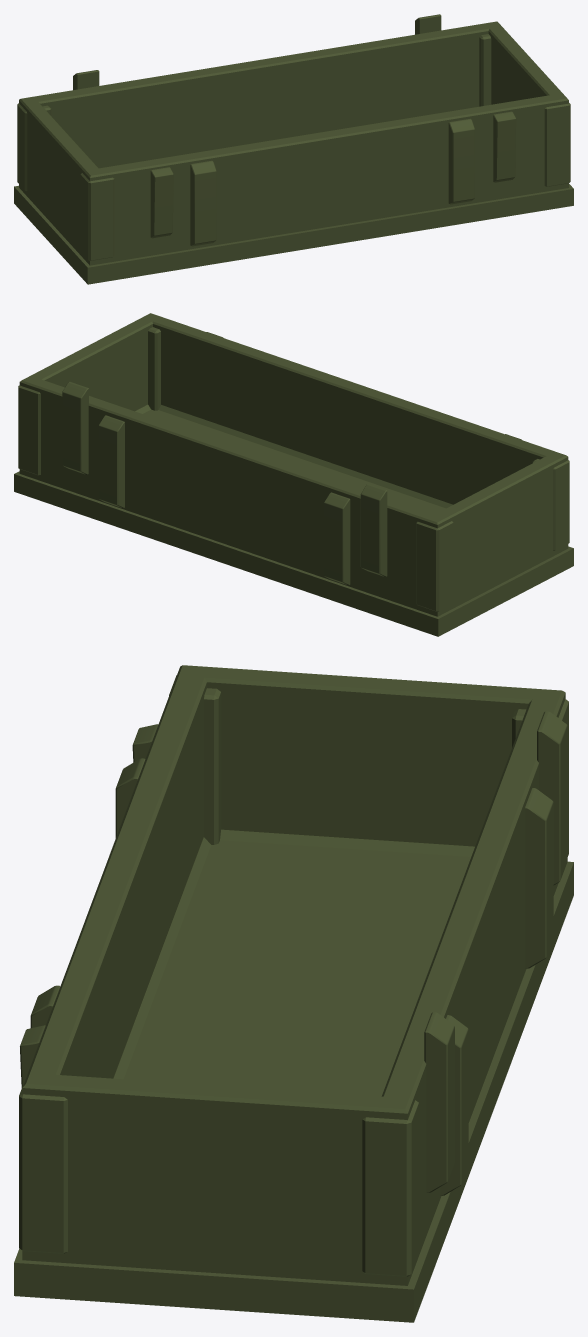
Rendered from caixa_5_corpo.glb.
3 renders of one model, top to bottom at view 1: azimuth 30°, elevation 25°; view 2: azimuth 150°, elevation 25°; view 3: azimuth 270°, elevation 25°, orthographic. The views are drawn at different scales.
Visible parts, largest first — view 1: SM_WeaponCrate_05_B; view 2: SM_WeaponCrate_05_B; view 3: SM_WeaponCrate_05_B.
Boxes of the visible parts, bbox=[...] form: SM_WeaponCrate_05_B: bbox=[14, 14, 573, 284]; SM_WeaponCrate_05_B: bbox=[14, 313, 573, 636]; SM_WeaponCrate_05_B: bbox=[14, 665, 573, 1322].
Size of the model in its own units: 1.53 by 0.3793 by 0.7993.
